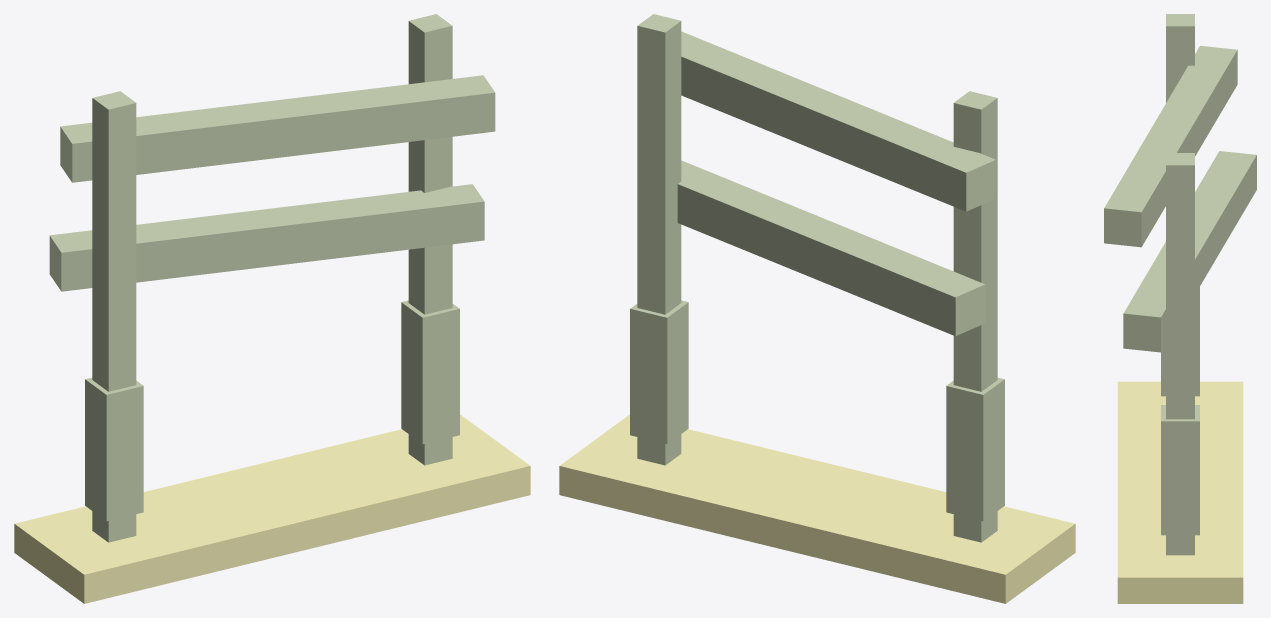
The model's file is furniture_shelter_lean_rail.glb.
3 renders of one model, left to right at view 1: azimuth 30°, elevation 25°; view 2: azimuth 150°, elevation 25°; view 3: azimuth 270°, elevation 25°, orthographic. The views are drawn at different scales.
Parts seen in each view (by area): view 1: pad, lean_bar_upper, lean_bar_lower, upright_left, upright_right, brace_left, brace_right; view 2: pad, lean_bar_upper, lean_bar_lower, upright_right, upright_left, brace_left, brace_right; view 3: pad, lean_bar_upper, upright_right, lean_bar_lower, brace_right, upright_left, brace_left.
Part boxes in pixels (left/top/right/bottom): pad: left=14, top=415, right=530, bottom=603; lean_bar_upper: left=60, top=75, right=495, bottom=182; lean_bar_lower: left=49, top=184, right=484, bottom=291; upright_left: left=92, top=91, right=136, bottom=542; upright_right: left=408, top=14, right=452, bottom=465; brace_left: left=85, top=377, right=143, bottom=521; brace_right: left=401, top=300, right=459, bottom=444; pad: left=559, top=415, right=1075, bottom=603; lean_bar_upper: left=681, top=31, right=995, bottom=211; lean_bar_lower: left=677, top=160, right=985, bottom=336; upright_right: left=637, top=14, right=681, bottom=465; upright_left: left=953, top=91, right=997, bottom=542; brace_left: left=946, top=377, right=1004, bottom=521; brace_right: left=630, top=300, right=688, bottom=444; pad: left=1117, top=381, right=1243, bottom=603; lean_bar_upper: left=1104, top=45, right=1237, bottom=247; upright_right: left=1166, top=153, right=1194, bottom=555; lean_bar_lower: left=1123, top=151, right=1256, bottom=352; brace_right: left=1161, top=405, right=1199, bottom=535; upright_left: left=1166, top=14, right=1194, bottom=102; brace_left: left=1161, top=287, right=1199, bottom=396.
Size of the model in its own units: 0.96 by 0.95 by 0.316.
